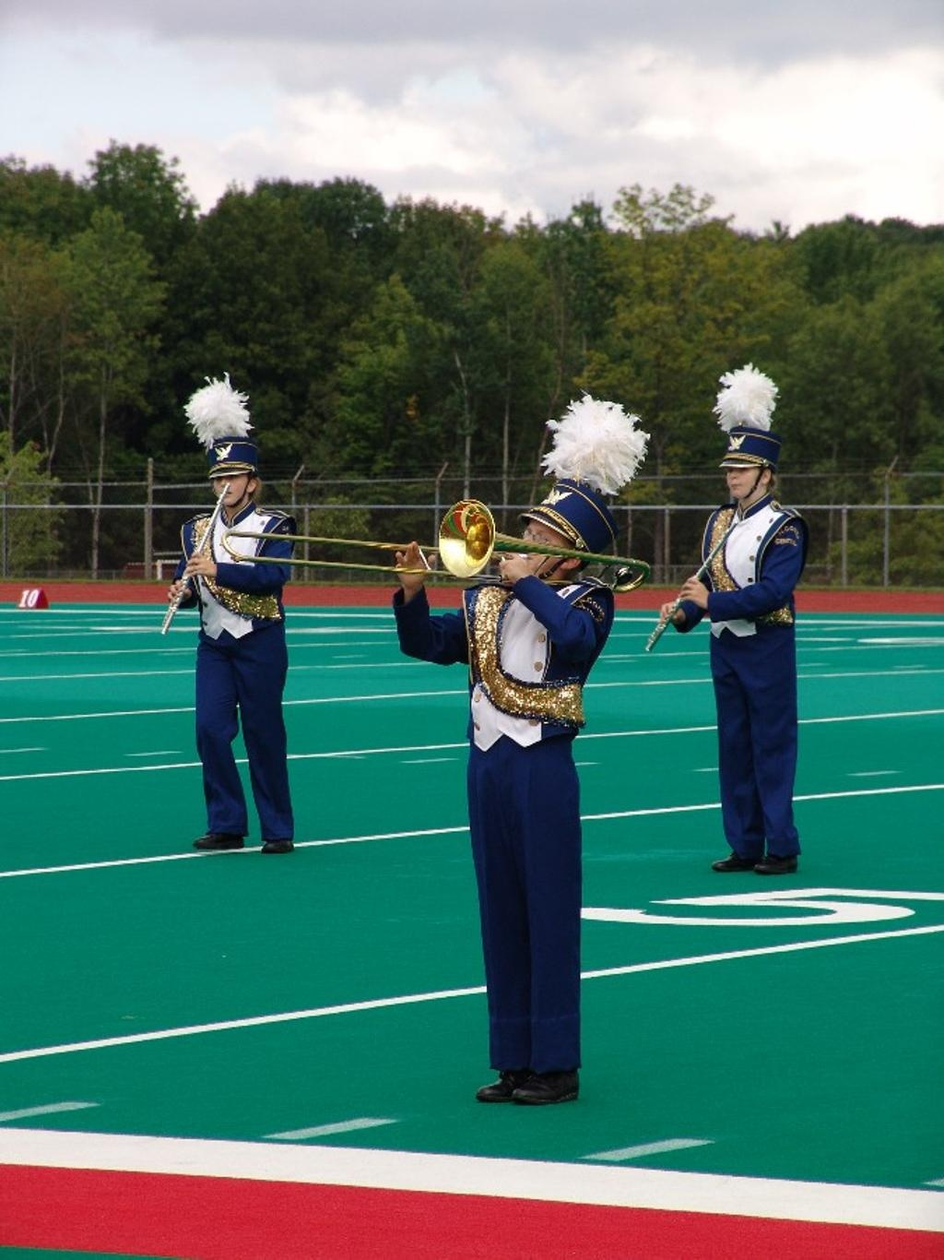human_face: (514, 513, 570, 581), (210, 462, 249, 506), (725, 453, 761, 497)
